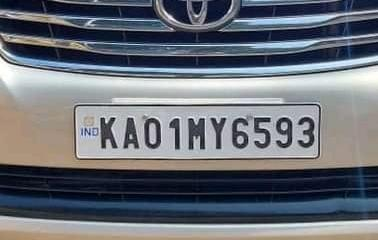0: (143, 115, 163, 150)
1: (165, 115, 183, 154)
3: (296, 115, 316, 150)
5: (252, 113, 274, 150)
6: (231, 113, 250, 153)
9: (276, 115, 294, 149)
A: (122, 113, 140, 153)
K: (97, 114, 120, 151)
M: (185, 115, 207, 152)
Y: (210, 115, 228, 152)
